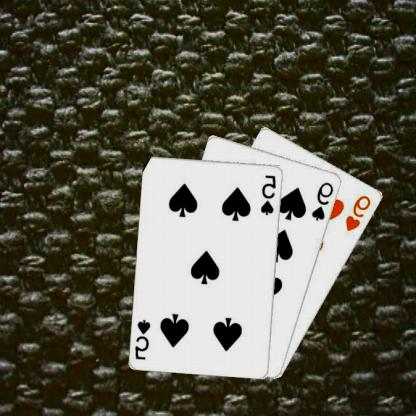5S: (134, 316, 154, 360), (260, 172, 279, 216)
9H: (345, 192, 374, 233)
9S: (311, 179, 337, 222)
